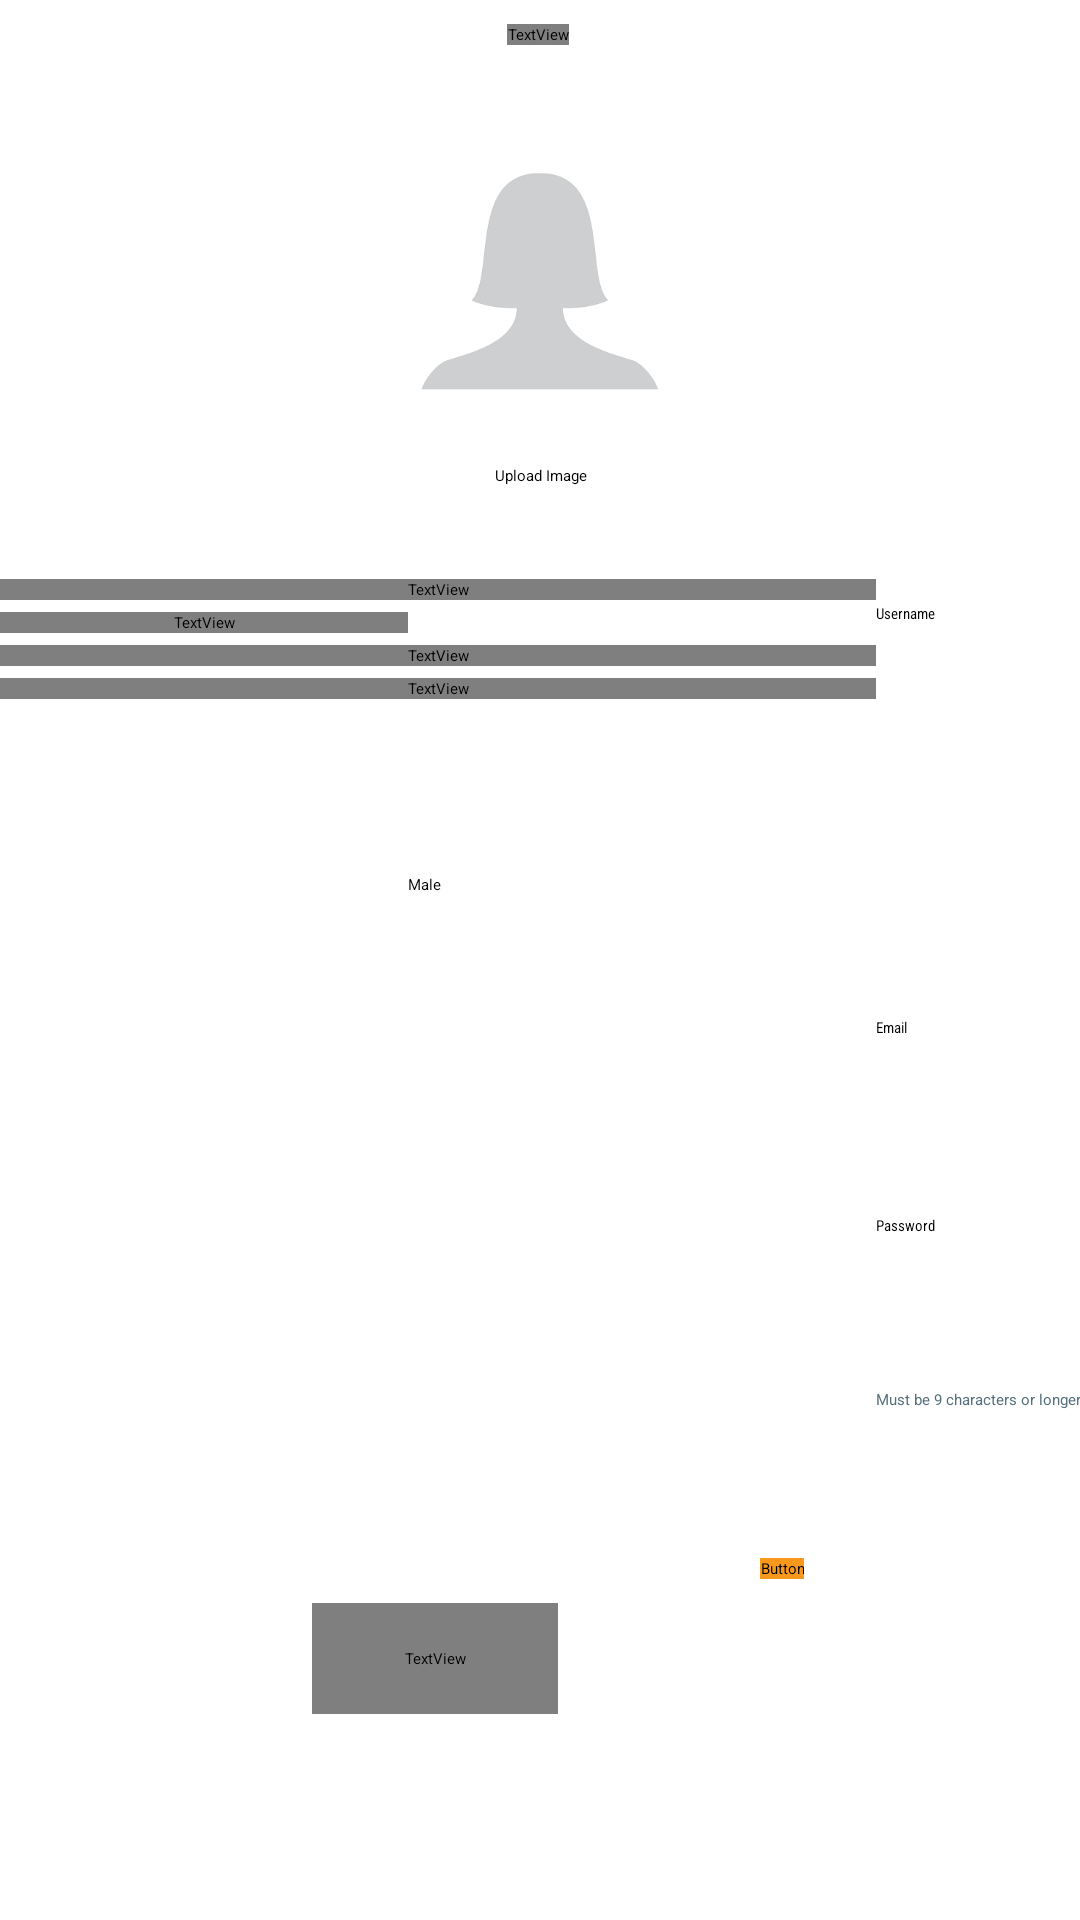

Screen size 1080×1920. Icon name, then its center in pixels as (x,y):
Profile Image: (540,281)
